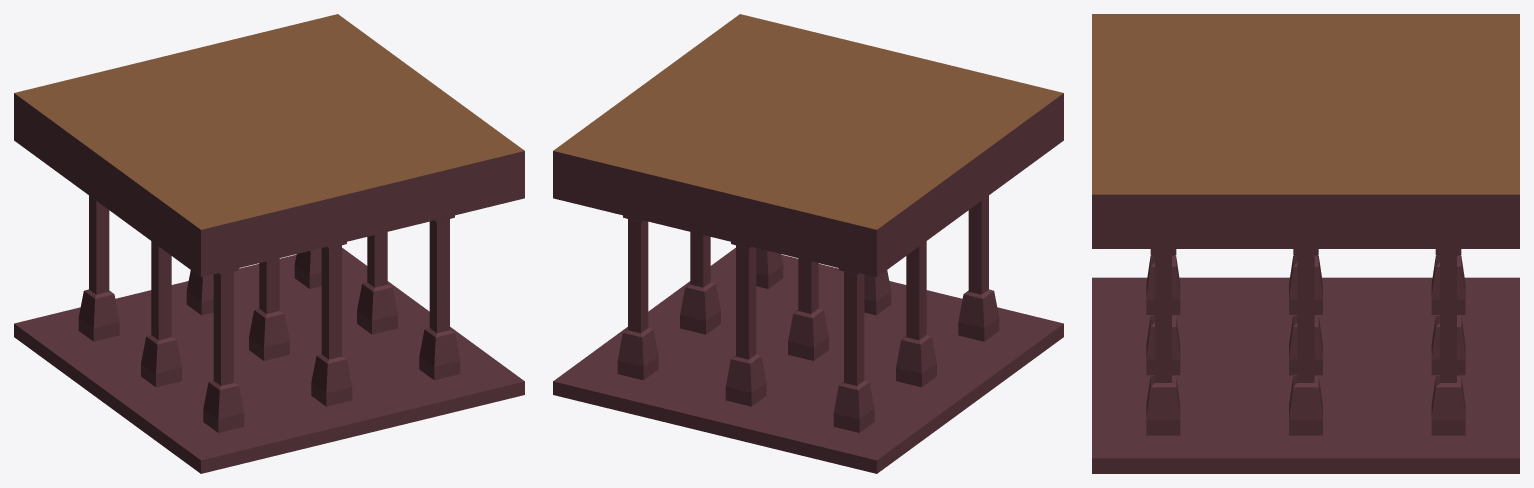
File: hindu-pillars-middle.fbx
3 renders of one model, left to right at view 1: azimuth 30°, elevation 25°; view 2: azimuth 150°, elevation 25°; view 3: azimuth 270°, elevation 25°, orthographic. The views are drawn at different scales.
Parts seen in each view (by area): view 1: hindu-pillars-middle; view 2: hindu-pillars-middle; view 3: hindu-pillars-middle.
Part boxes in pixels (left/top/right/bottom): hindu-pillars-middle: left=14, top=14, right=524, bottom=473; hindu-pillars-middle: left=553, top=14, right=1063, bottom=473; hindu-pillars-middle: left=1092, top=14, right=1519, bottom=473.
Bounding box in the file's own units: 5 × 3.6 × 5.
